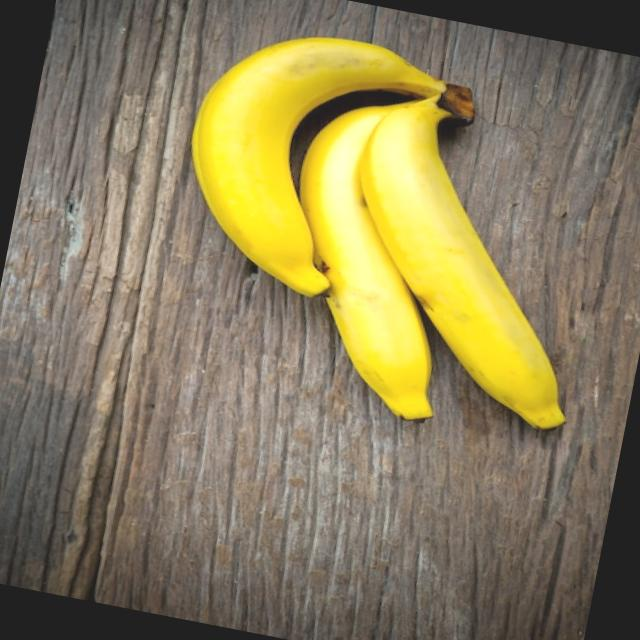banana: (137, 6, 638, 454)
